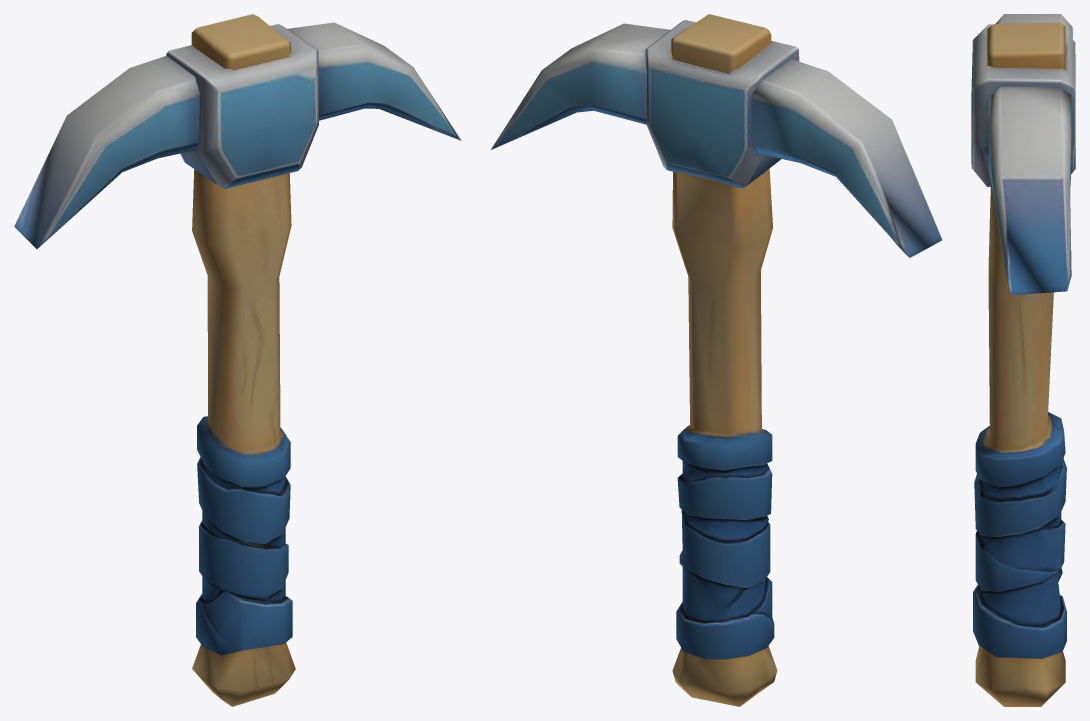
File: mithril_mining_pick.glb
3 views of the same model, side by side, from view 1: azimuth 30°, elevation 25°; view 2: azimuth 150°, elevation 25°; view 3: azimuth 270°, elevation 25° (orthographic).
Parts seen in each view (by area): view 1: tripo_node_ec9c3203-890e-4b79-8196-dbb1d1e1204b; view 2: tripo_node_ec9c3203-890e-4b79-8196-dbb1d1e1204b; view 3: tripo_node_ec9c3203-890e-4b79-8196-dbb1d1e1204b.
Boxes of the visible parts, x1,y1,x2,y2 form: tripo_node_ec9c3203-890e-4b79-8196-dbb1d1e1204b: [14, 14, 461, 706]; tripo_node_ec9c3203-890e-4b79-8196-dbb1d1e1204b: [491, 14, 942, 706]; tripo_node_ec9c3203-890e-4b79-8196-dbb1d1e1204b: [971, 14, 1075, 706].
Bounding box in the file's own units: 0.979 × 1.45 × 0.2074.
1 material, 1 textured.
